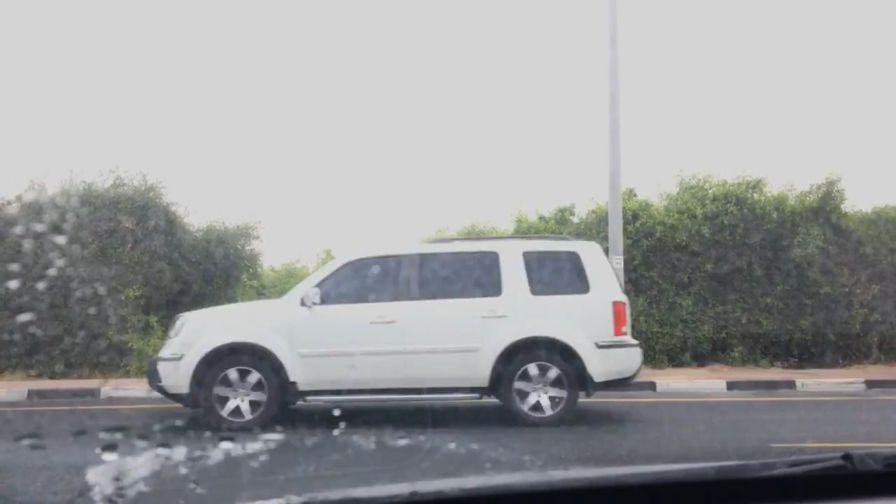car: (147, 238, 647, 434)
